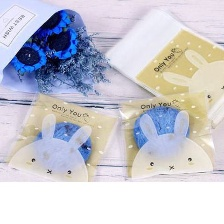snack: (0, 87, 125, 181), (112, 84, 224, 181)
